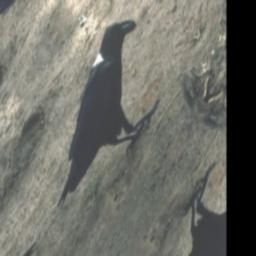Crow: (19, 3, 181, 237)
